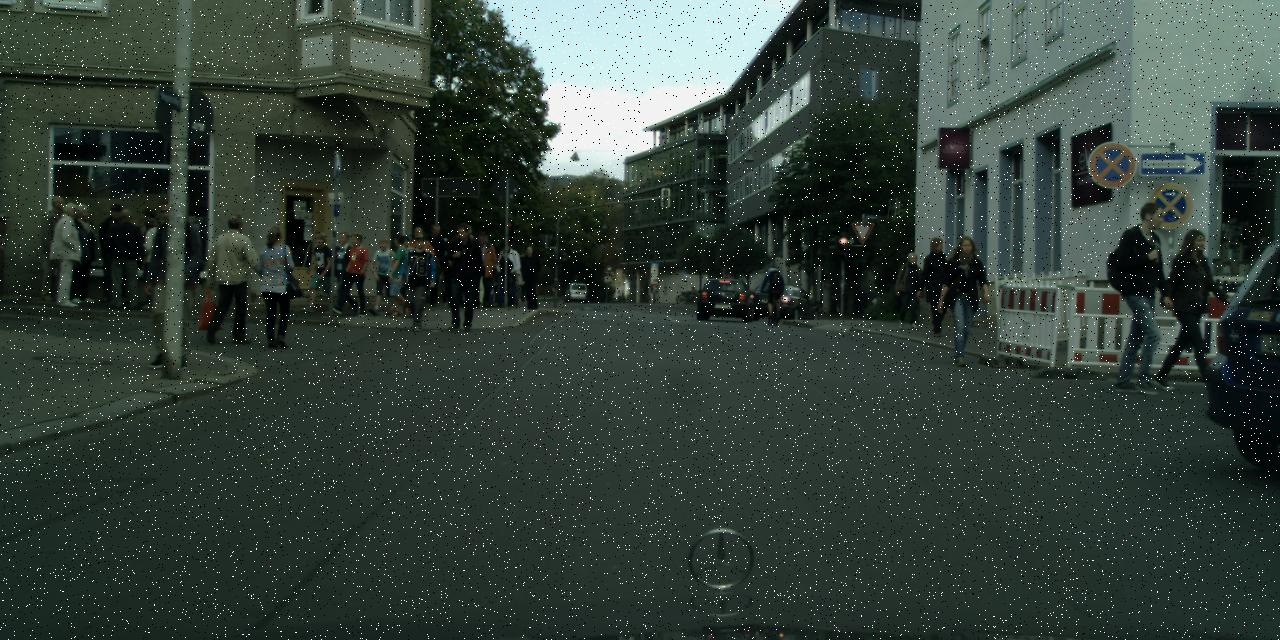ped: (1105, 202, 1183, 392), (134, 196, 204, 370), (1159, 228, 1225, 391), (936, 235, 990, 367), (204, 213, 256, 343), (252, 225, 301, 348), (439, 222, 484, 331), (32, 195, 75, 301), (46, 202, 89, 306), (104, 208, 145, 308), (94, 203, 134, 303), (62, 203, 102, 303), (917, 237, 957, 336), (130, 208, 170, 306), (399, 234, 439, 331), (136, 218, 172, 308), (328, 231, 361, 313), (336, 234, 369, 316), (421, 224, 454, 306), (384, 234, 416, 316), (305, 230, 337, 310), (367, 237, 399, 316), (402, 226, 433, 304), (894, 252, 924, 328), (466, 232, 496, 308), (389, 235, 419, 307), (492, 241, 519, 307), (518, 245, 543, 308), (762, 266, 784, 319)
